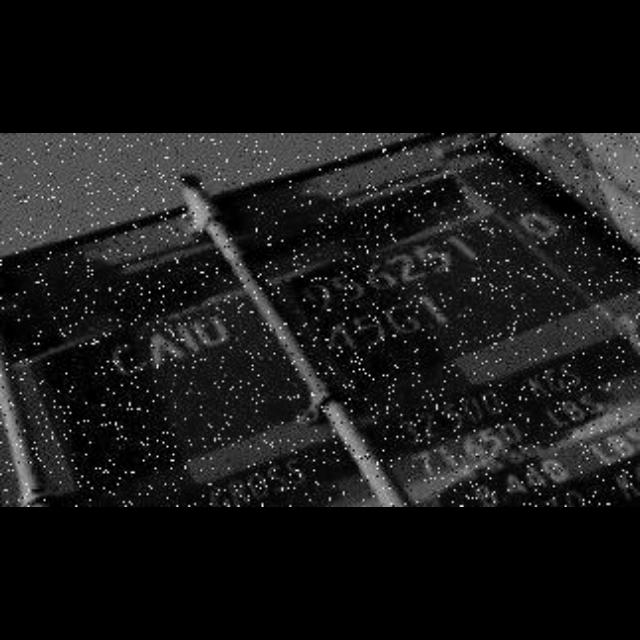0: (517, 212, 561, 242), (542, 456, 574, 486), (500, 418, 524, 450), (463, 394, 483, 426)
1: (414, 292, 458, 330), (450, 234, 486, 264)
2: (391, 256, 427, 284), (419, 409, 441, 443)
3: (393, 419, 425, 449)
4: (322, 324, 358, 360), (454, 435, 488, 465), (500, 474, 532, 500), (522, 464, 548, 494)
5: (349, 312, 386, 350), (417, 243, 453, 273), (480, 425, 506, 459), (334, 275, 364, 303), (442, 400, 466, 434)
6: (363, 262, 399, 298), (382, 306, 422, 338)
7: (407, 449, 439, 483)
9: (298, 281, 334, 317)
a: (145, 330, 183, 374)
b: (608, 435, 640, 461), (560, 399, 584, 423)
c: (98, 344, 150, 381)
g: (546, 367, 566, 391)
i: (176, 322, 202, 363)
k: (524, 373, 548, 402)
l: (587, 442, 617, 472), (543, 408, 569, 434)
s: (580, 390, 608, 416), (562, 361, 584, 389)
u: (192, 316, 232, 350)
